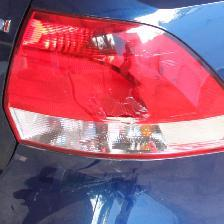dent: (72, 55, 162, 151)
